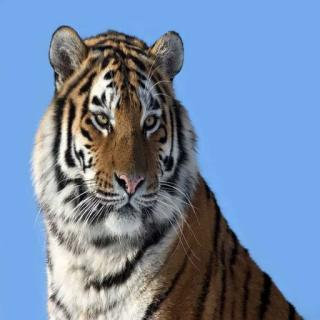Tiger: (28, 11, 310, 320)
